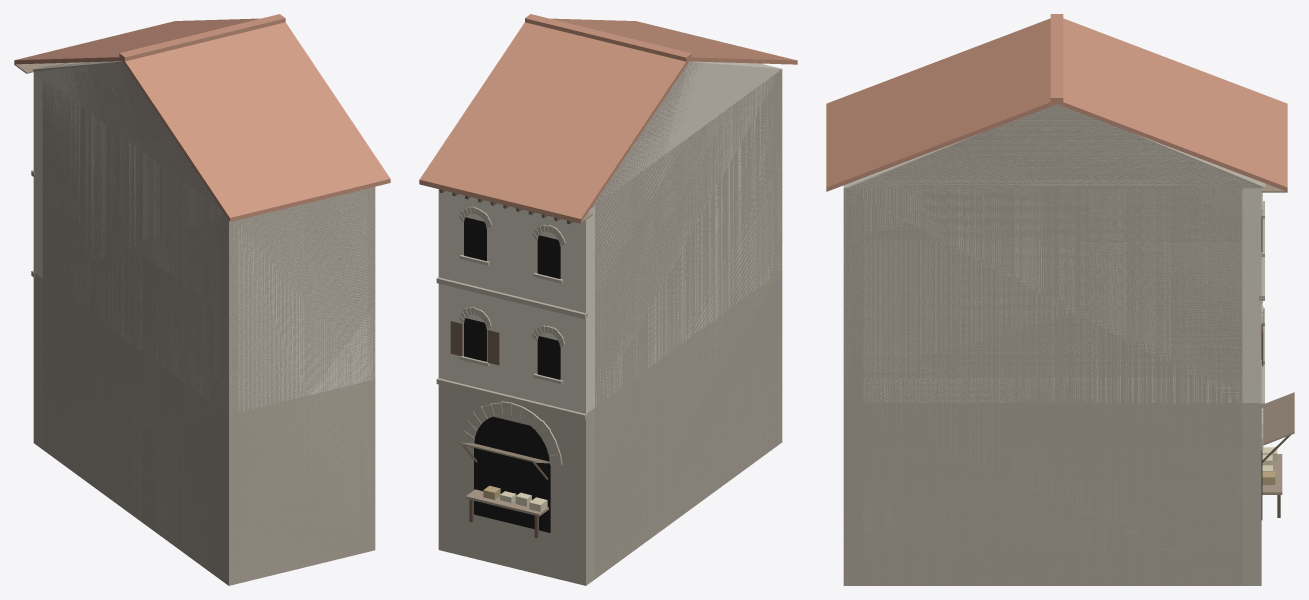
File: casa-52-2-intonaco.glb
3 views of the same model, side by side, from view 1: azimuth 30°, elevation 25°; view 2: azimuth 150°, elevation 25°; view 3: azimuth 270°, elevation 25° (orthographic). The views are drawn at different scales.
Visible parts, largest first — view 1: vicino, lontano; view 2: vicino, lontano, aperta; view 3: vicino, lontano, aperta.
Boxes of the visible parts, x1=… form: vicino: x1=14, y1=14, x2=390, y2=585; lontano: x1=14, y1=58, x2=390, y2=585; vicino: x1=419, y1=14, x2=797, y2=585; lontano: x1=419, y1=58, x2=797, y2=585; aperta: x1=458, y1=442, x2=549, y2=538; vicino: x1=826, y1=14, x2=1287, y2=585; lontano: x1=826, y1=101, x2=1287, y2=585; aperta: x1=1262, y1=392, x2=1294, y2=517.
Size of the model in its own units: 5.7 by 15.58 by 13.45.
